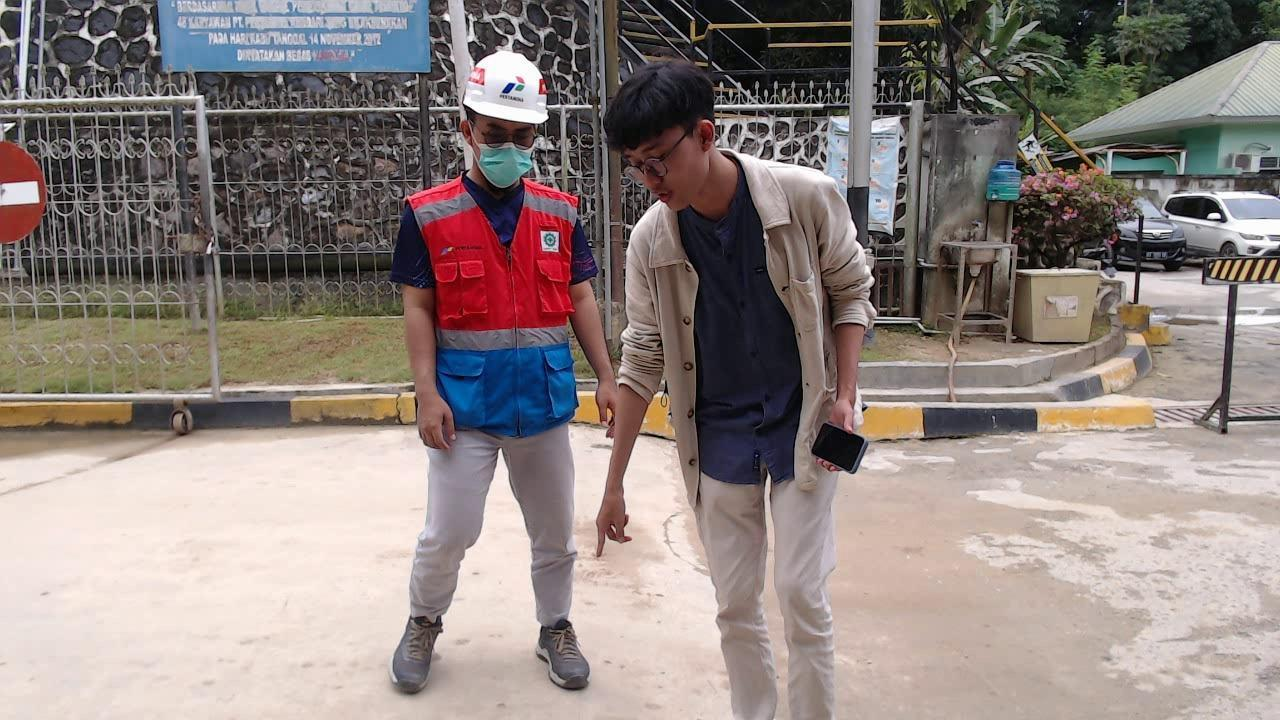helmet: (451, 51, 557, 130)
